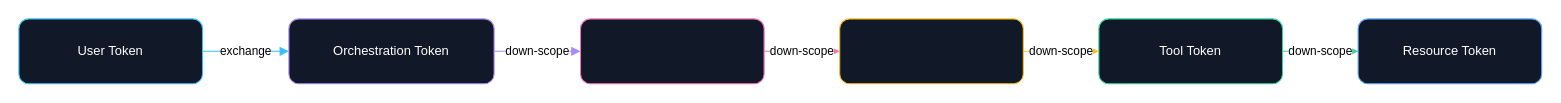
This 1561x103 diagram has some shape labels left out. Here are the shapes that lost their labels. From the top down, the centre of each, then its label:
At (671,51): "Gateway Token".
At (931,51): "Executor Token".
